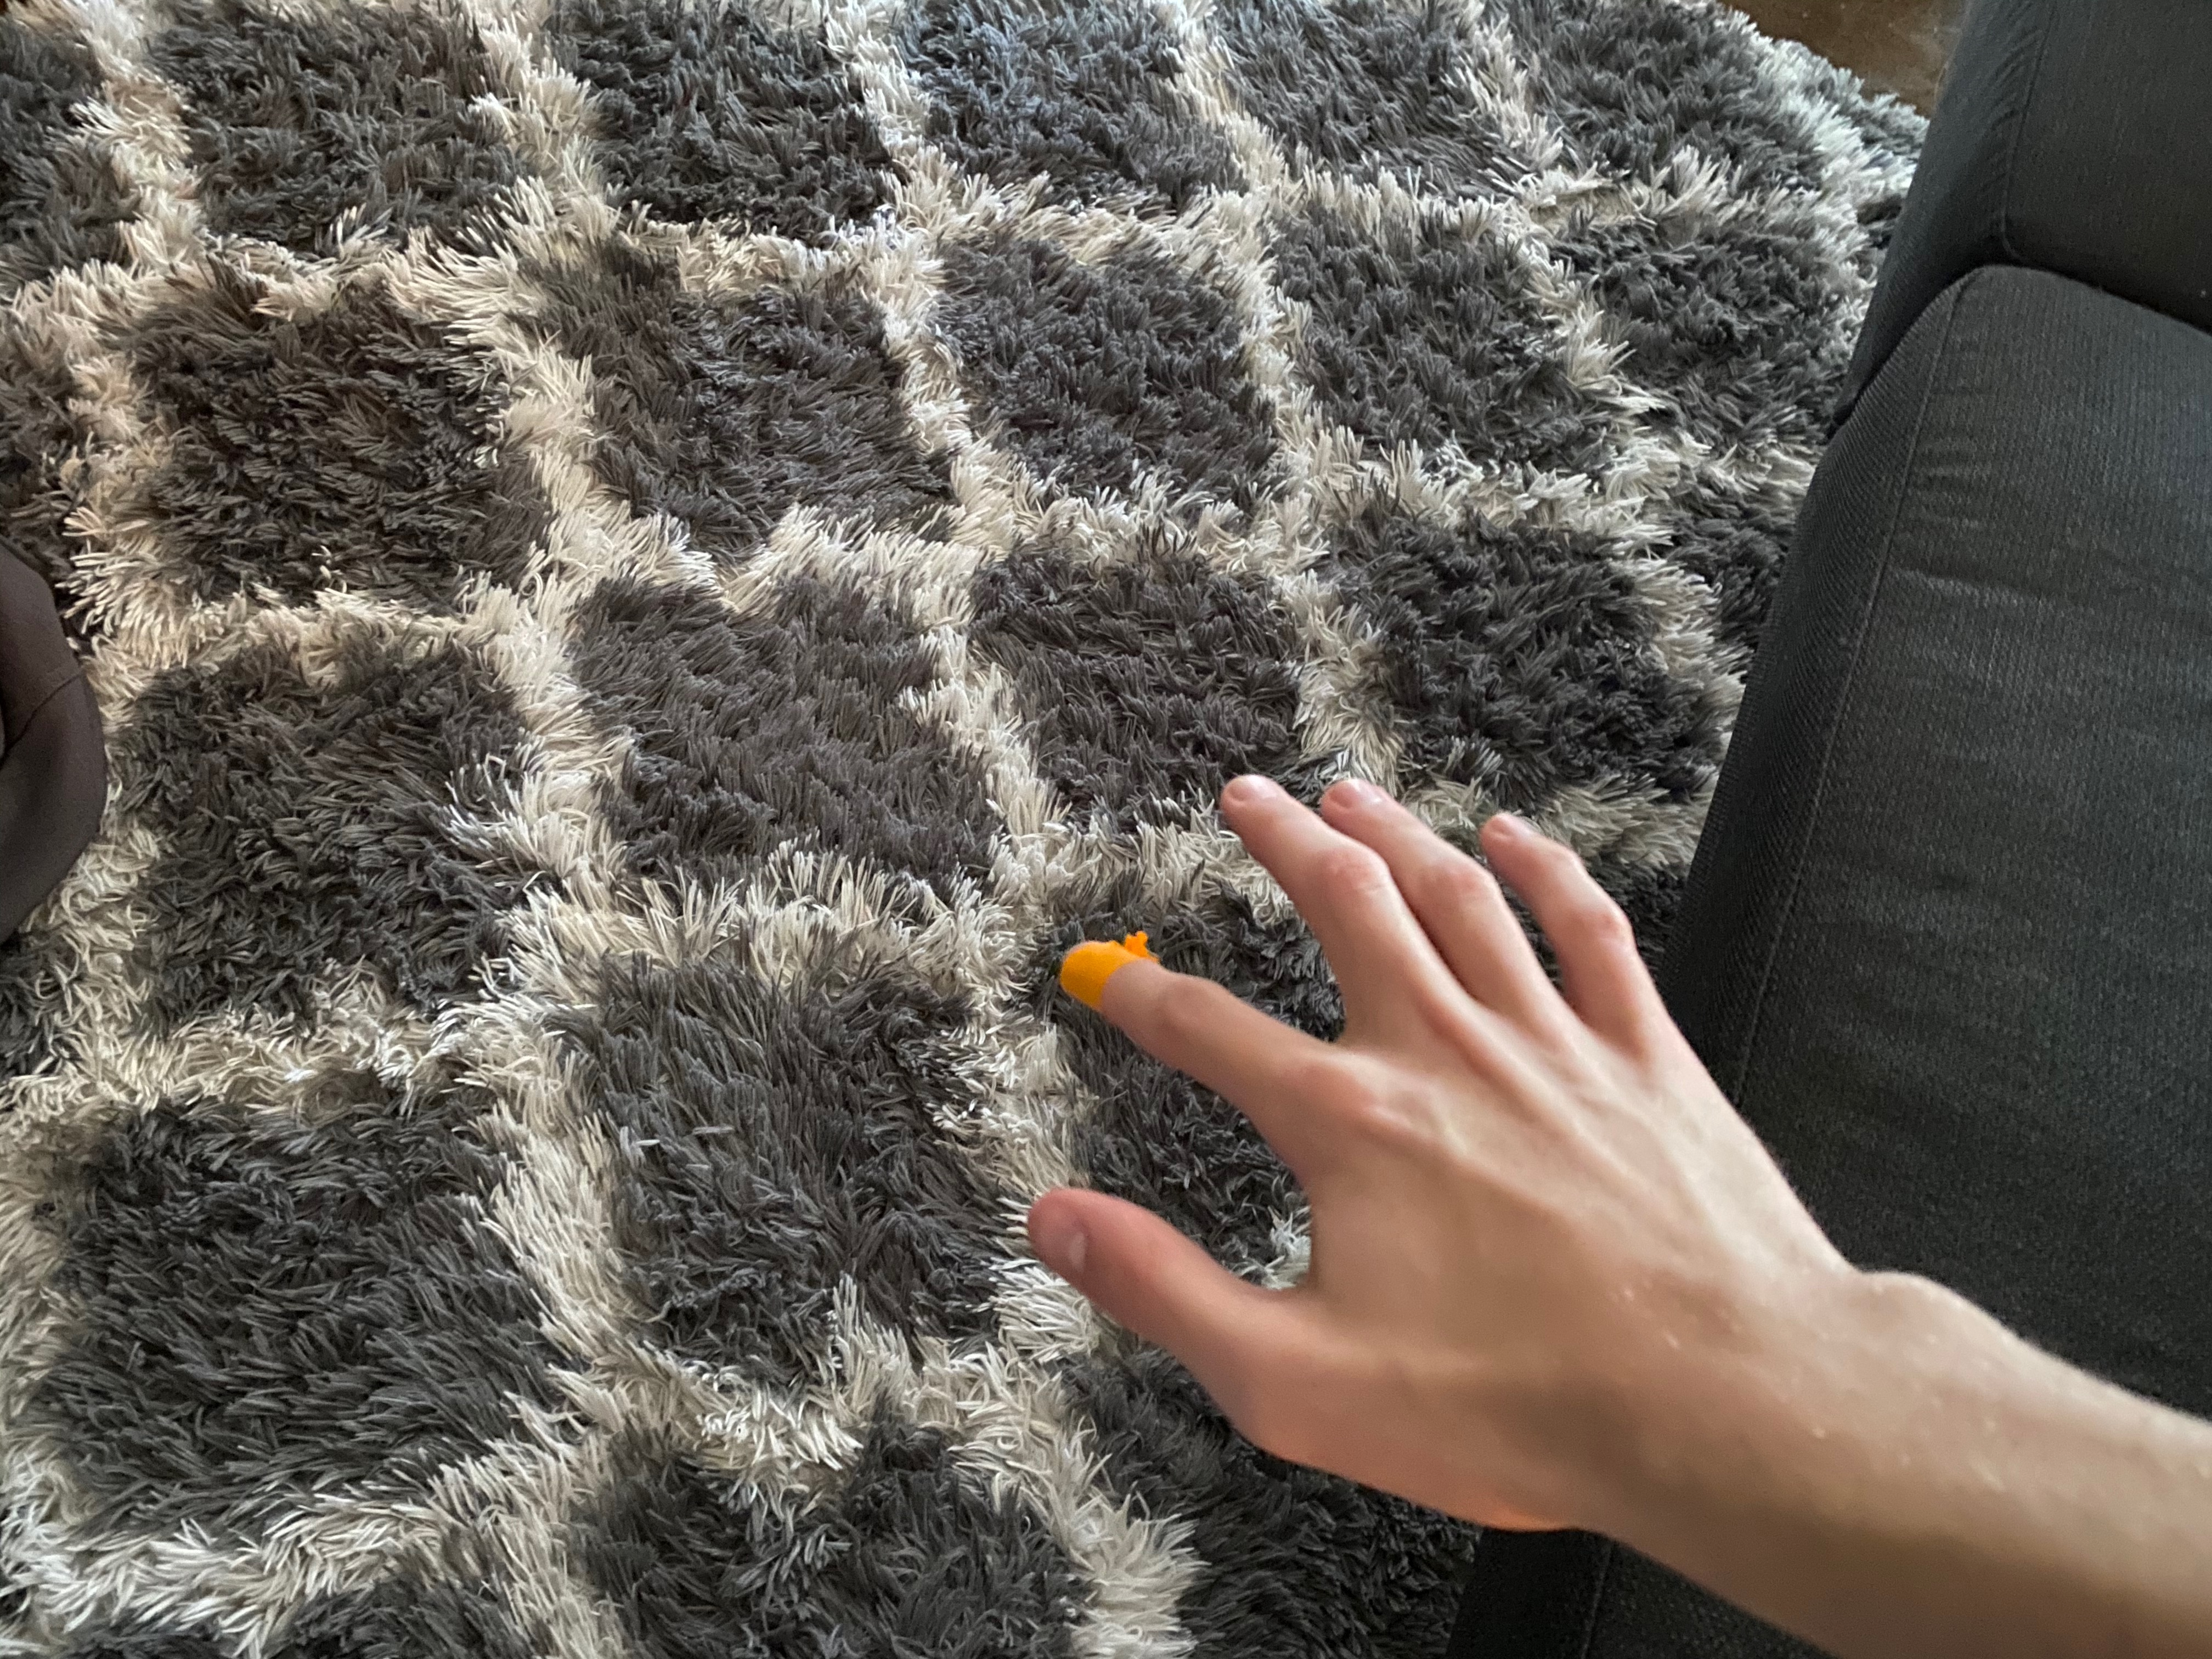fingertip: (1052, 929, 1172, 1053)
